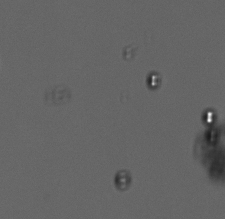Dead Cell: (52, 83, 71, 103), (115, 169, 132, 190), (120, 42, 138, 61), (206, 128, 220, 143)
Living Cell: (146, 71, 162, 89), (203, 109, 216, 125)
